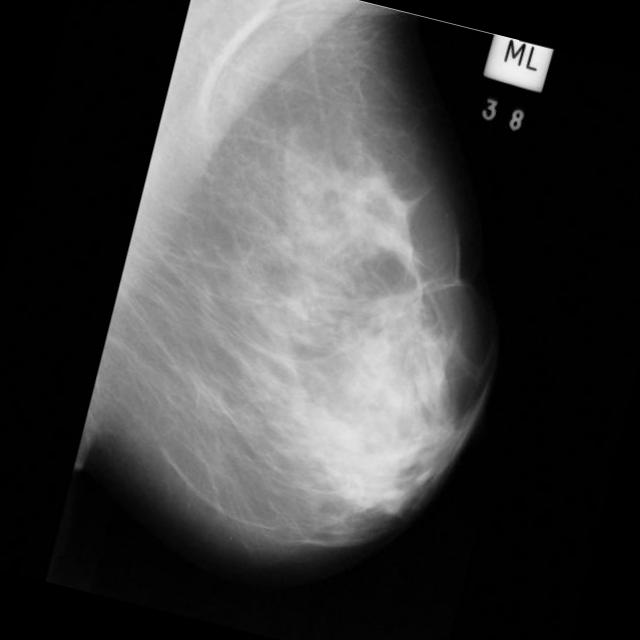SPIC: (296, 206, 496, 406)
